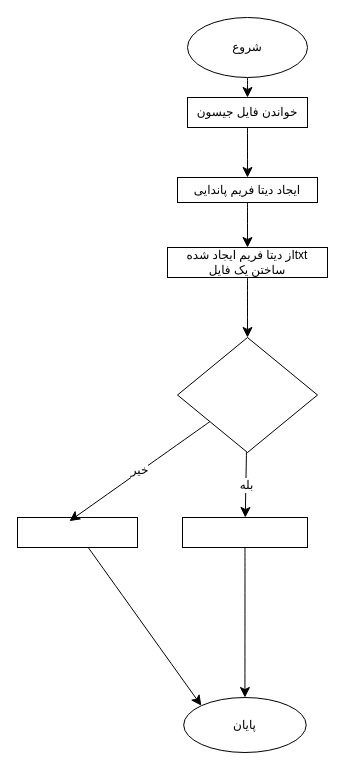
This 345x770 diagram has some shape labels left out. Each missing label, with the centre of its shape:
"ایجاد شروط پاندایی سن>=22 و درامد بالای 22م نداشتن = خانه جنسیت = مرد" goes at [247,394].
"چاپ اسامی واجد شرایط وام" goes at [245,532].
"چاپ یک لیست خالی(هیچکس)" goes at [77,532].
